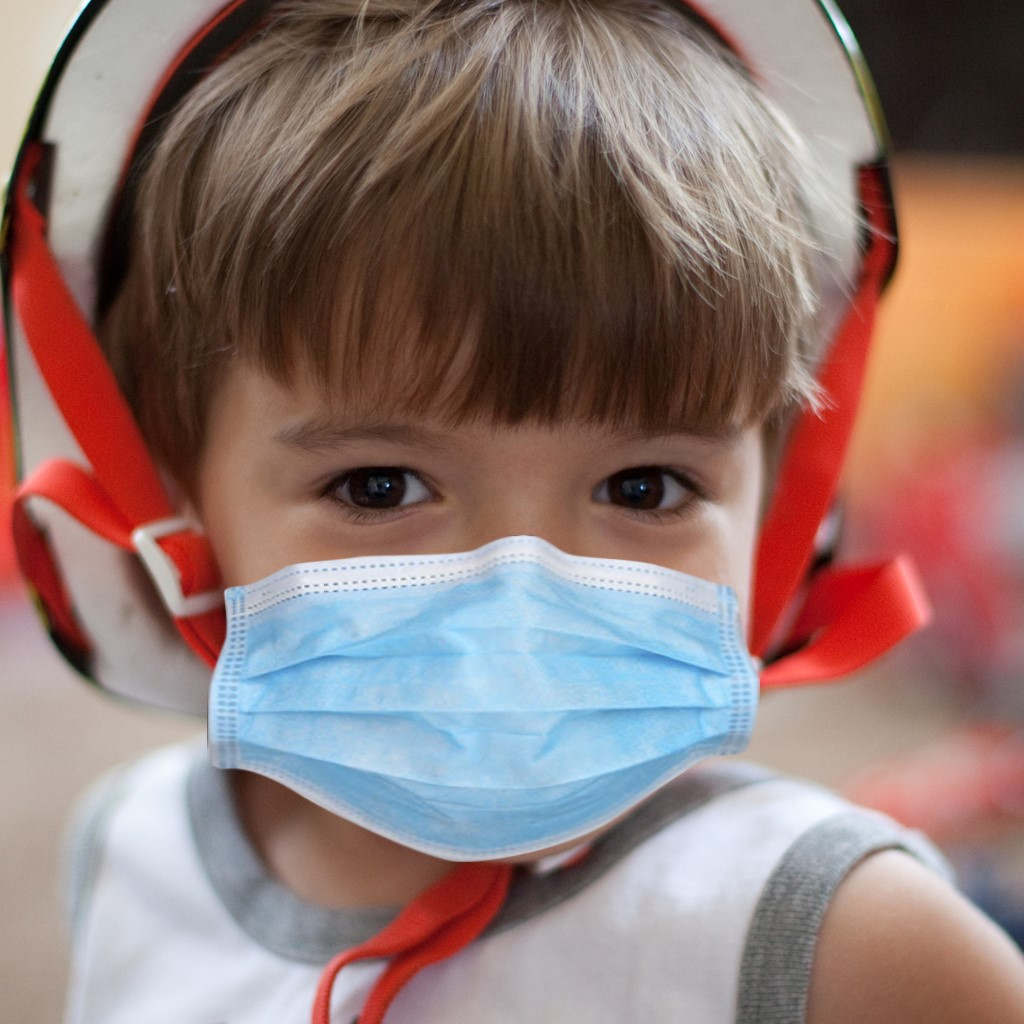con_mascara: (181, 213, 760, 817)
